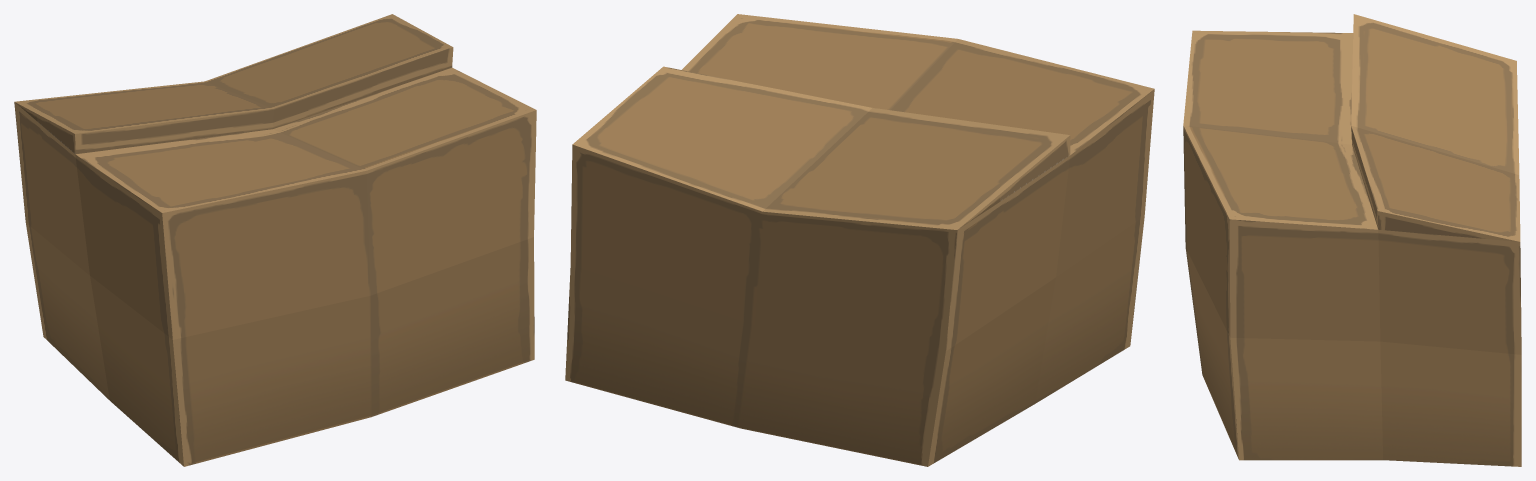
The model's file is Caja.fbx.
3 renders of one model, left to right at view 1: azimuth 30°, elevation 25°; view 2: azimuth 150°, elevation 25°; view 3: azimuth 270°, elevation 25°, orthographic. The views are drawn at different scales.
Parts seen in each view (by area): view 1: caja_carton_001PTRSZ; view 2: caja_carton_001PTRSZ; view 3: caja_carton_001PTRSZ.
Boxes of the visible parts, box(x1,y1,x2,y2) form: caja_carton_001PTRSZ: box(14, 14, 536, 466); caja_carton_001PTRSZ: box(565, 14, 1154, 466); caja_carton_001PTRSZ: box(1183, 14, 1521, 466).
Size of the model in its own units: 1.48 by 0.9777 by 1.11.
